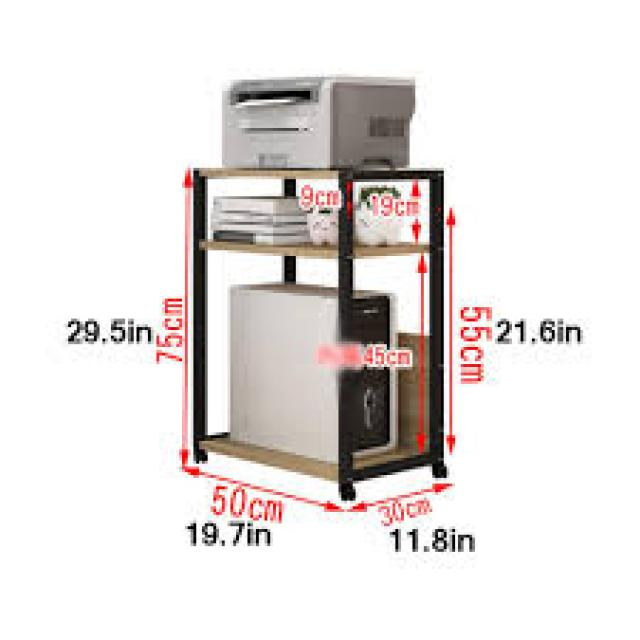printer: (219, 74, 415, 171)
